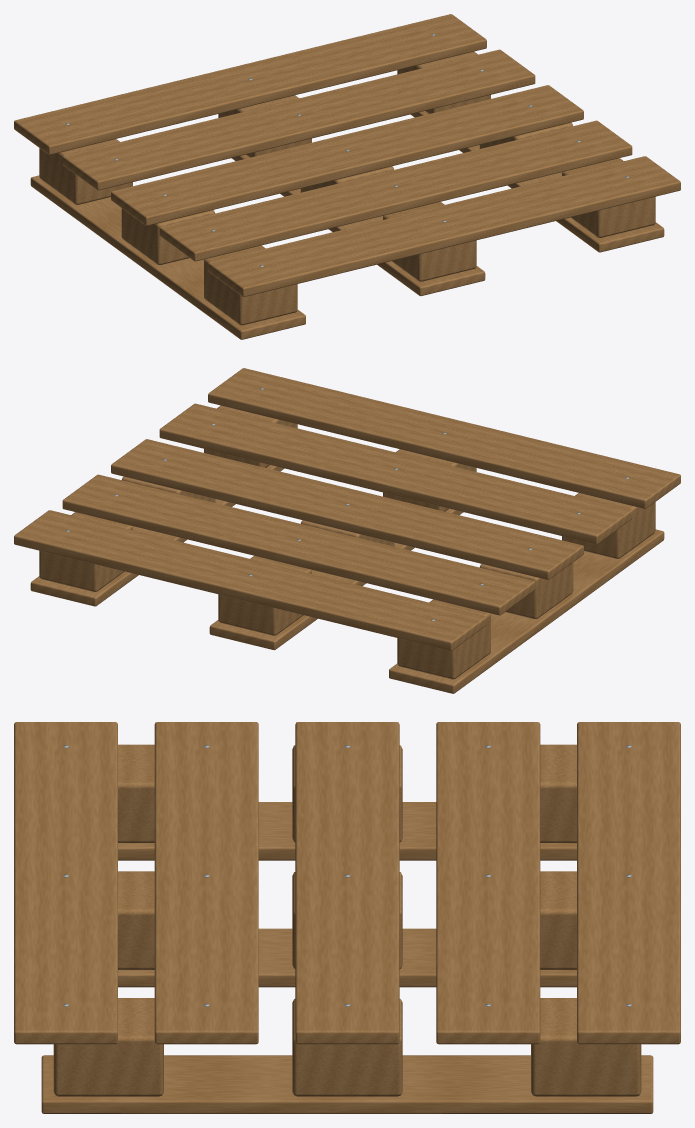
The model's file is pallet.glb.
3 renders of one model, top to bottom at view 1: azimuth 30°, elevation 25°; view 2: azimuth 150°, elevation 25°; view 3: azimuth 270°, elevation 25°, orthographic. The views are drawn at different scales.
Visible parts, largest first — view 1: Deck_board.003, Deck_board.001, Deck_board.004, Deck_board.002, Deck_board, Runner, Support_block, Support_block.003, Support_block.006, Support_block.002, Support_block.001, Runner.002 (+3 smaller); view 2: Deck_board.001, Deck_board.003, Deck_board, Deck_board.002, Deck_board.004, Runner, Support_block.002, Support_block.005, Support_block.008, Support_block, Support_block.001, Runner.002 (+3 smaller); view 3: Deck_board.002, Deck_board.001, Deck_board.003, Deck_board, Deck_board.004, Runner.002, Support_block.006, Support_block.008, Support_block.007, Runner.001, Runner, Support_block (+5 smaller).
Boxes of the visible parts, bbox=[...] form: Deck_board.003: bbox=[62, 49, 535, 190]; Deck_board.001: bbox=[159, 120, 632, 261]; Deck_board.004: bbox=[14, 14, 486, 154]; Deck_board.002: bbox=[111, 85, 583, 225]; Deck_board: bbox=[208, 156, 680, 296]; Runner: bbox=[30, 175, 305, 339]; Support_block: bbox=[204, 245, 297, 325]; Support_block.003: bbox=[383, 202, 476, 281]; Support_block.006: bbox=[562, 158, 655, 237]; Support_block.002: bbox=[39, 139, 132, 204]; Support_block.001: bbox=[121, 208, 215, 264]; Runner.002: bbox=[410, 111, 664, 252]; Deck_board.001: bbox=[159, 403, 632, 544]; Deck_board.003: bbox=[62, 474, 535, 615]; Deck_board: bbox=[208, 368, 680, 508]; Deck_board.002: bbox=[111, 439, 583, 579]; Deck_board.004: bbox=[14, 510, 486, 650]; Runner: bbox=[389, 529, 664, 693]; Support_block.002: bbox=[397, 599, 490, 679]; Support_block.005: bbox=[218, 556, 311, 635]; Support_block.008: bbox=[39, 512, 132, 591]; Support_block: bbox=[562, 493, 655, 558]; Support_block.001: bbox=[479, 562, 573, 618]; Runner.002: bbox=[30, 465, 284, 606]; Deck_board.002: bbox=[295, 722, 399, 1044]; Deck_board.001: bbox=[154, 722, 258, 1044]; Deck_board.003: bbox=[436, 722, 540, 1044]; Deck_board: bbox=[14, 722, 117, 1044]; Deck_board.004: bbox=[577, 722, 680, 1044]; Runner.002: bbox=[41, 1055, 653, 1113]; Support_block.006: bbox=[53, 998, 163, 1096]; Support_block.008: bbox=[531, 998, 641, 1096]; Support_block.007: bbox=[292, 999, 402, 1096]; Runner.001: bbox=[118, 928, 576, 987]; Runner: bbox=[118, 802, 576, 860]; Support_block: bbox=[118, 744, 154, 842].
Size of the model in its own units: 1.2 by 0.161 by 1.09.
Materials: 2 (1 with a texture image).
